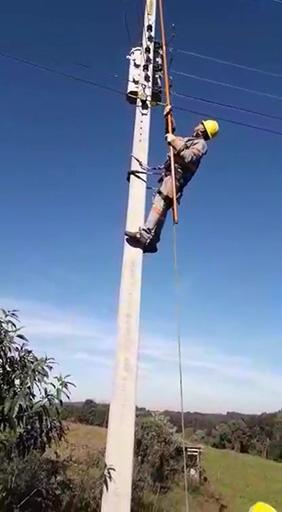Vara_Manobra: (158, 1, 180, 225)
